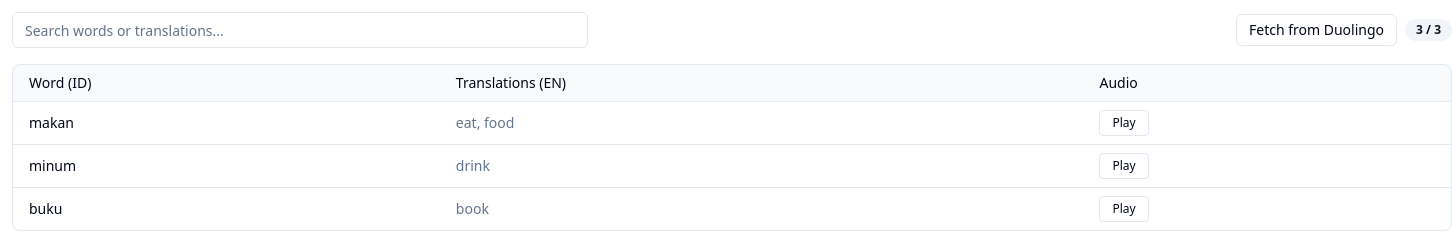
Test: WordsTable › Search functionality › should filter lexemes by translation
Type "drink" into the field with placeholder "Search words or translations..." at (300, 30), box [12,12,588,48]
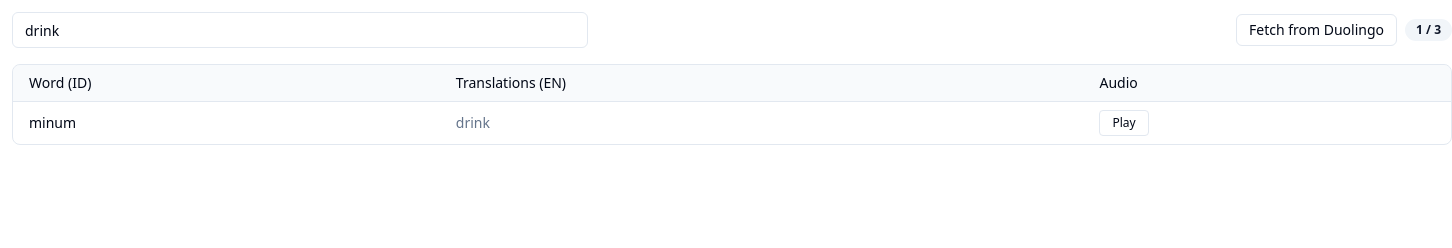
Expected: the text "minum" is shown, [13,102,440,144]
Now the text "makan" is gone
Now the text "buku" is gone
